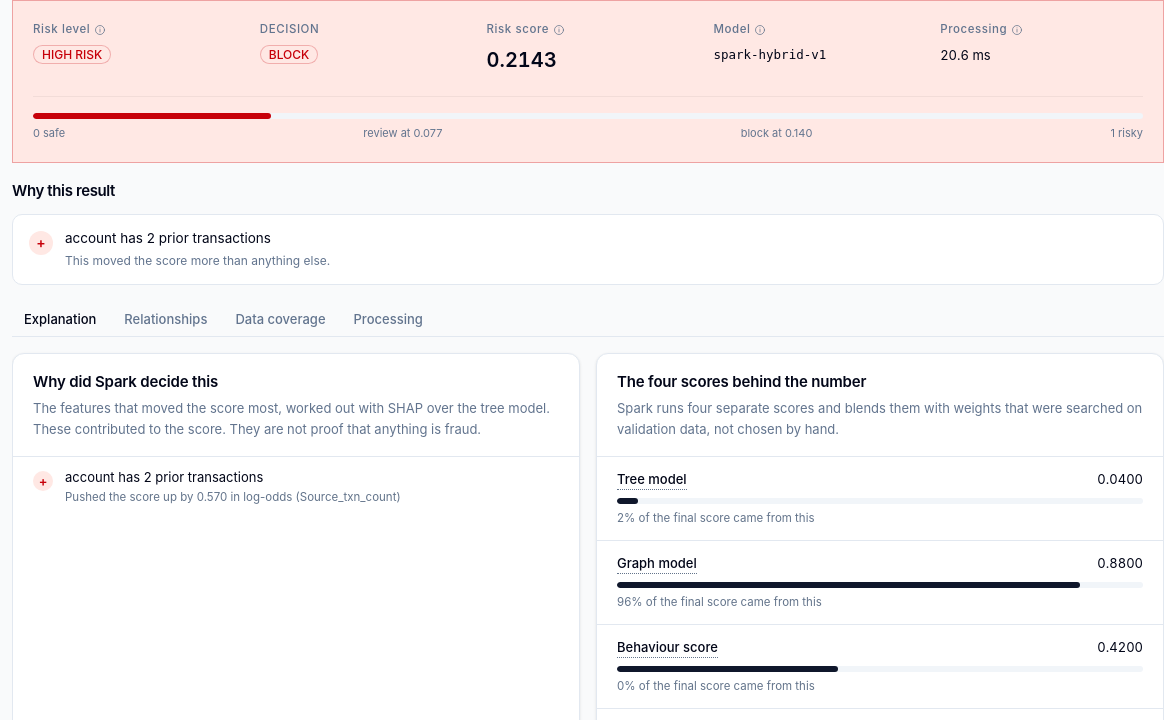
the risk result › shows the real processing steps the backend reported
Click the tab "Processing".
click(388, 319)  # box [342,301,435,337]
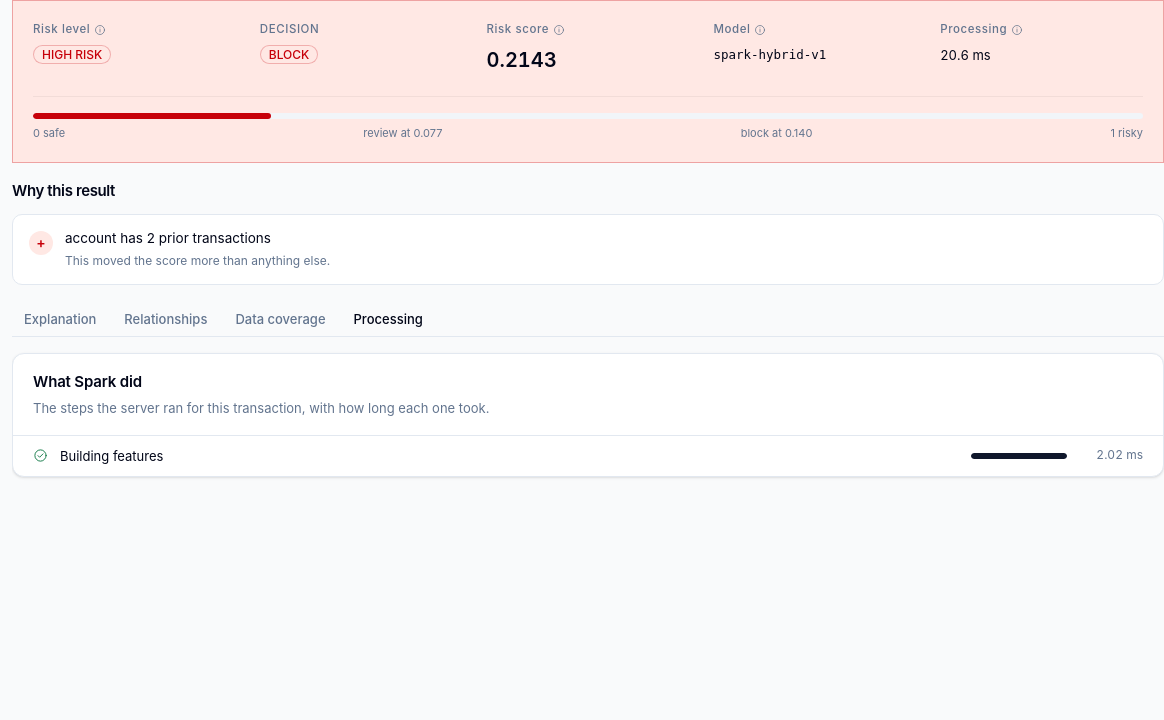
Expected: the text "Building features" is shown, [60,448,163,464]
